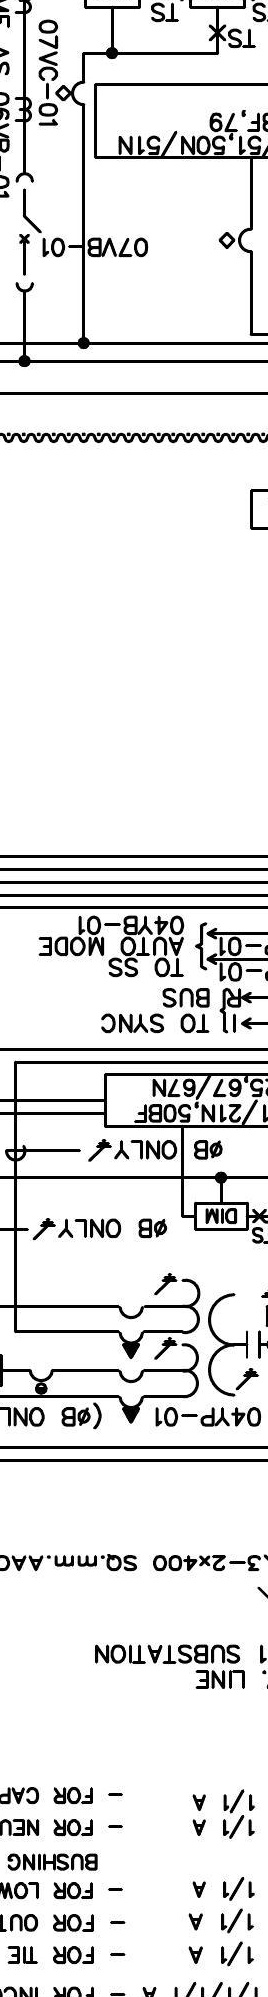115_cvt_1p: (116, 1271, 262, 1424)
22_breaker: (15, 172, 42, 293)
DIM: (194, 1201, 249, 1232)
